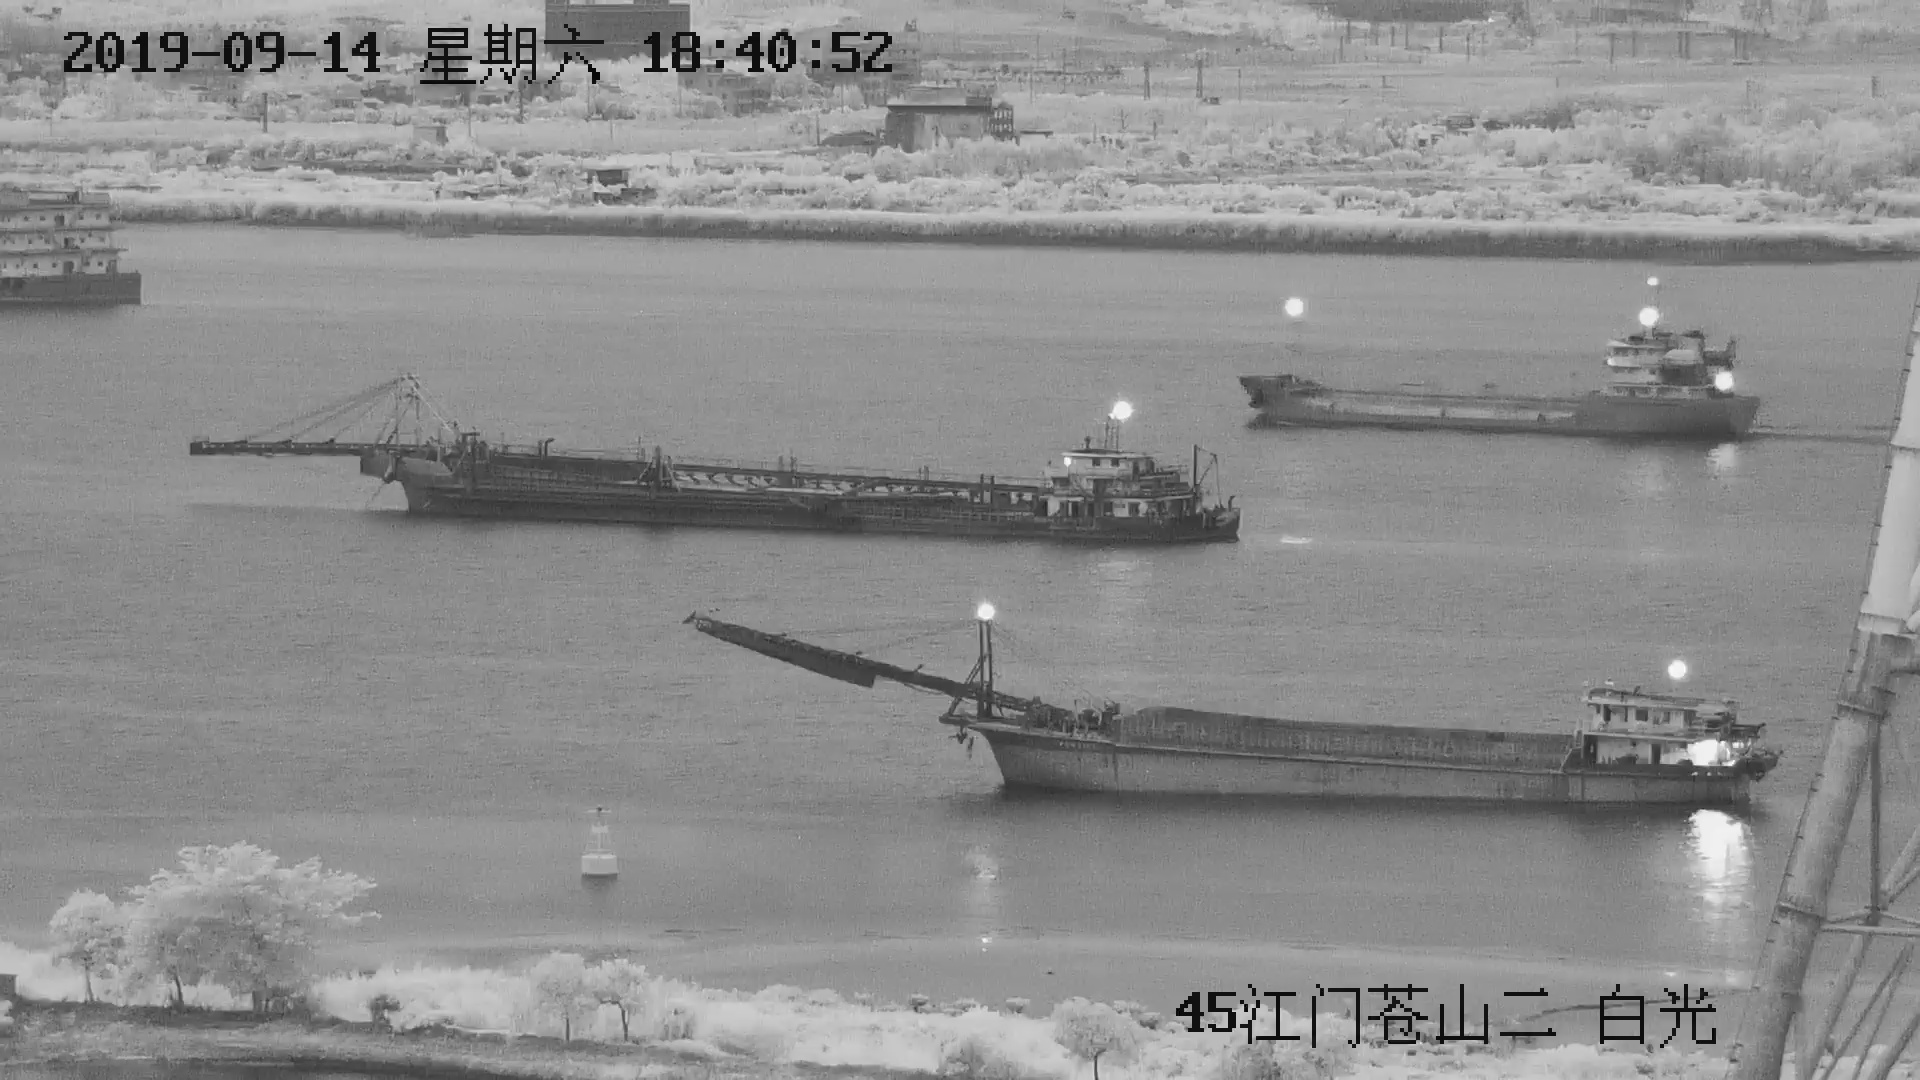ship: (703, 578, 1780, 818), (193, 384, 1241, 527), (1255, 281, 1756, 444)
